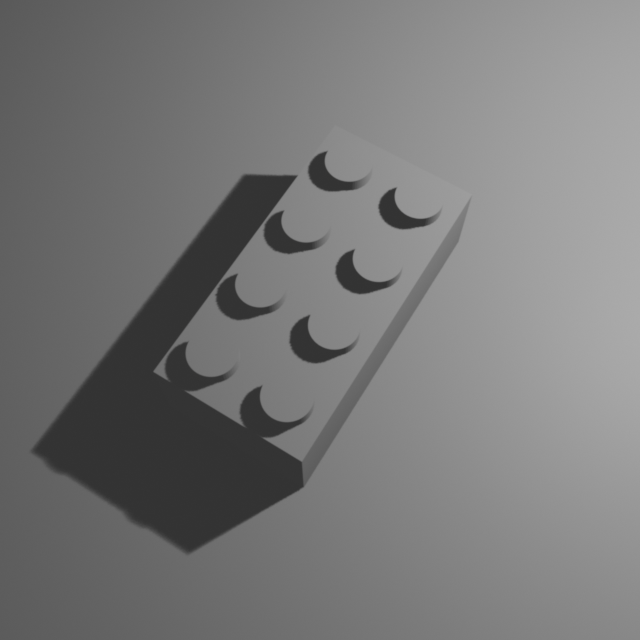lego_2x4: (150, 116, 475, 488)
